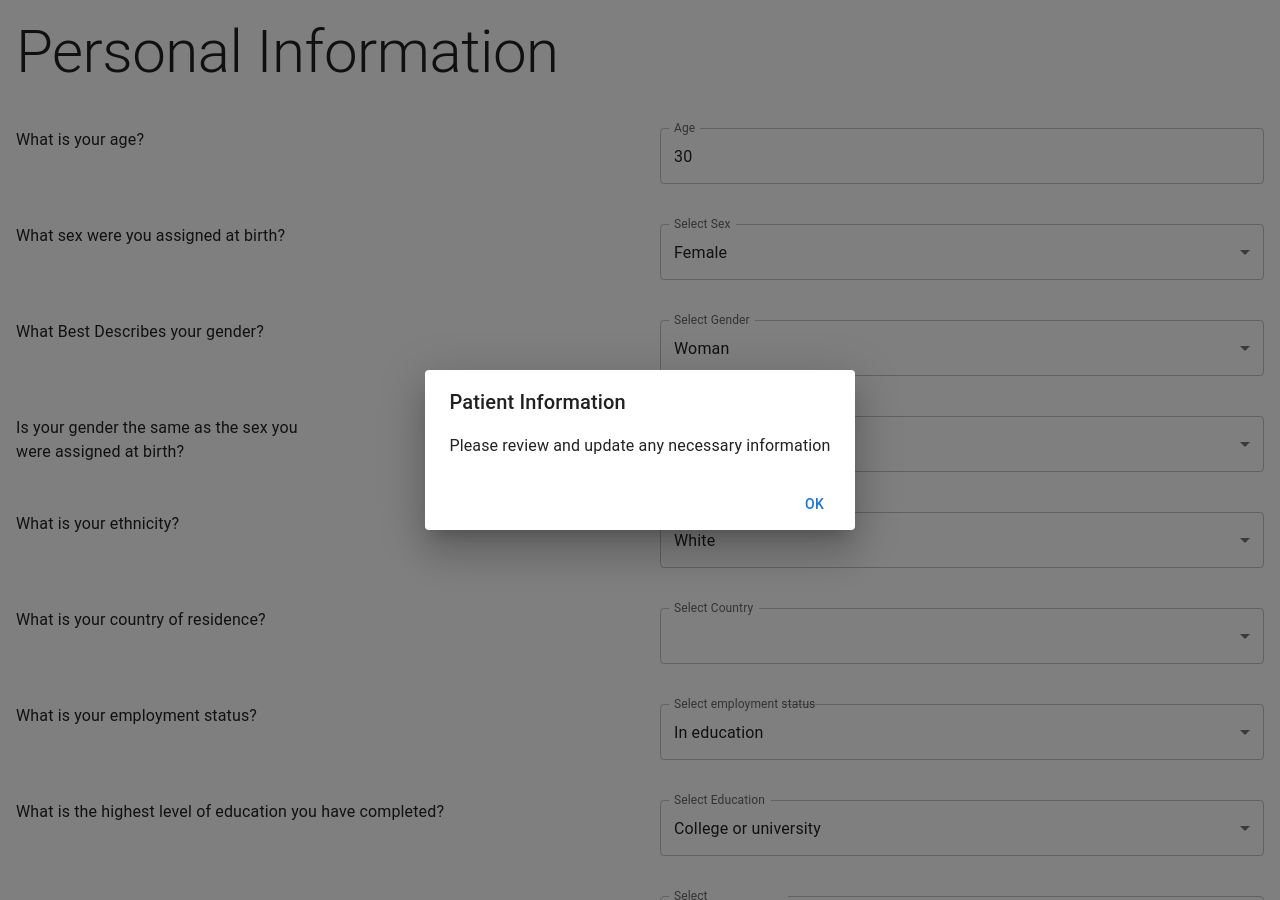
PatientInfoForm integration › Errors shown when validation fails
Check: the dialog is shown, box x1=425 y1=370 x2=855 y2=530
Step 1. Click the button "OK" → point(815, 504), box x1=783 y1=486 x2=847 y2=522
(page scrolled)
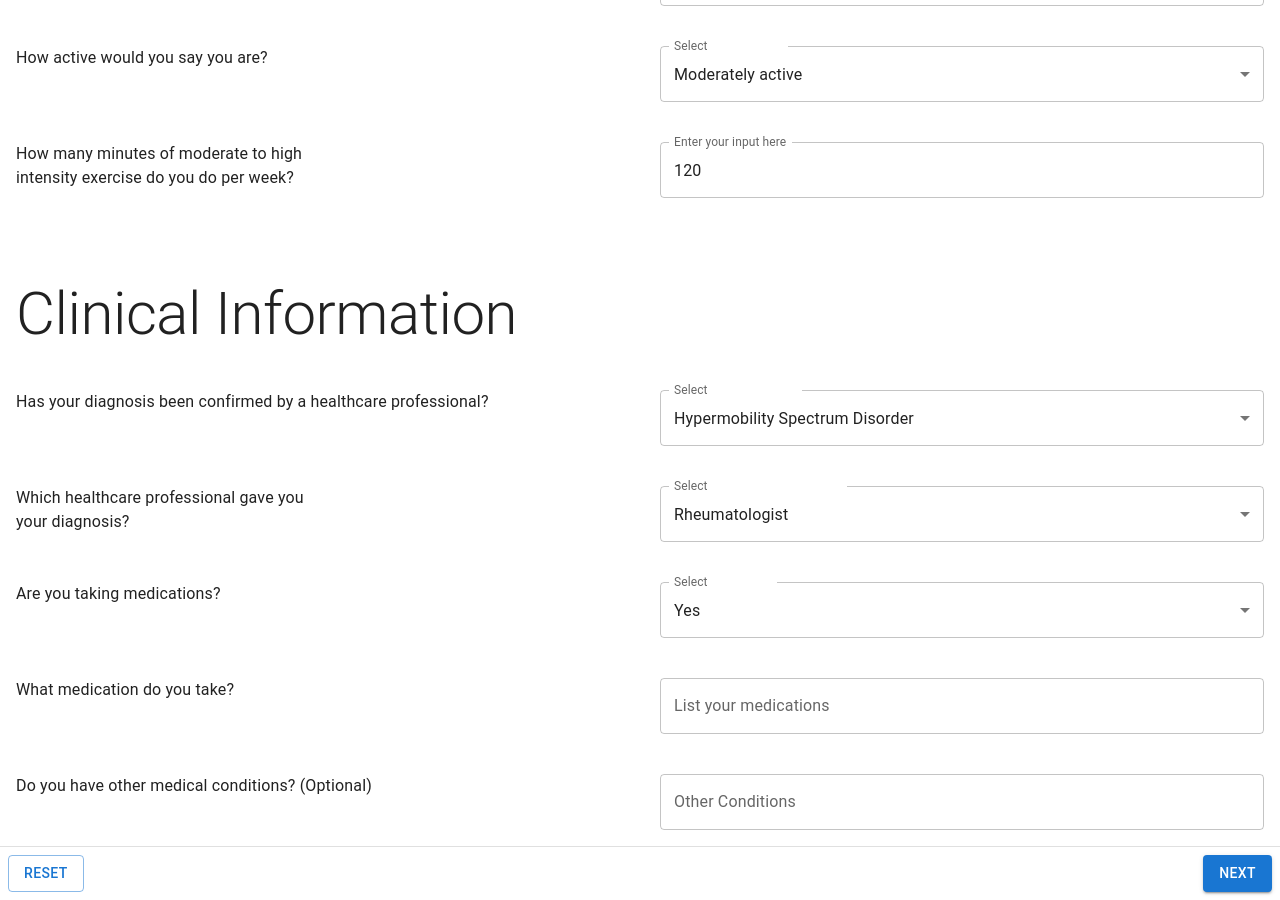
Check: the dialog is gone
Step 2. Click the button "Next" → point(1238, 873), box x1=1203 y1=855 x2=1272 y2=892
(page scrolled)
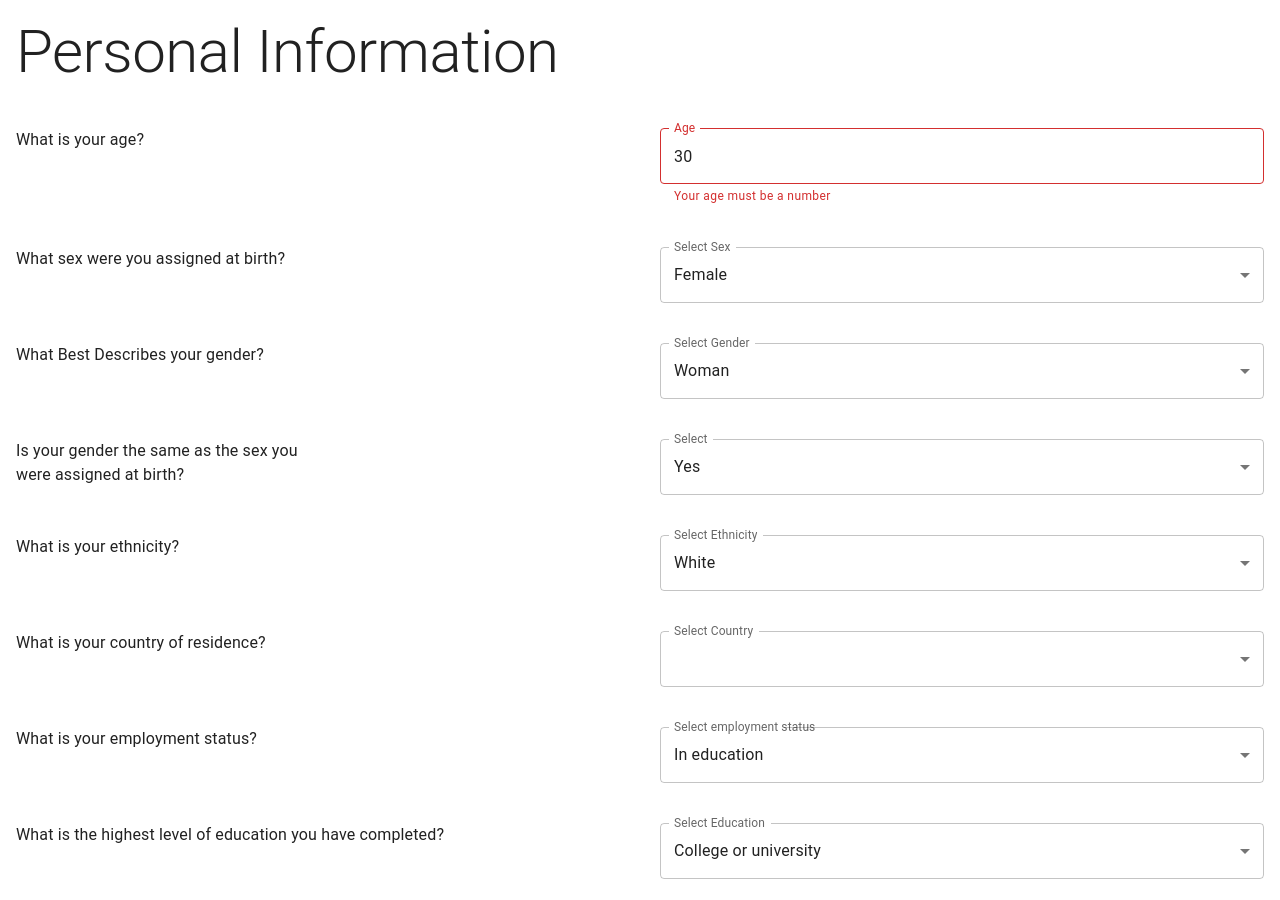
Check: the text "Your age must be a number" is shown, box x1=674 y1=189 x2=831 y2=203
